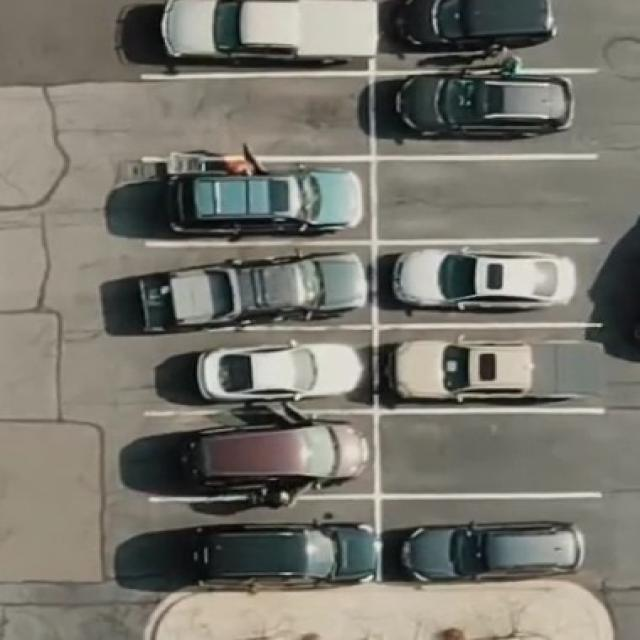space-empty: (369, 136, 606, 269), (372, 402, 606, 501), (133, 68, 371, 159)
space-occupied: (367, 50, 600, 172), (370, 304, 612, 418), (120, 497, 379, 592), (121, 241, 374, 334), (132, 409, 378, 500), (130, 154, 372, 245), (380, 493, 604, 582), (130, 0, 374, 75), (124, 334, 374, 404)
